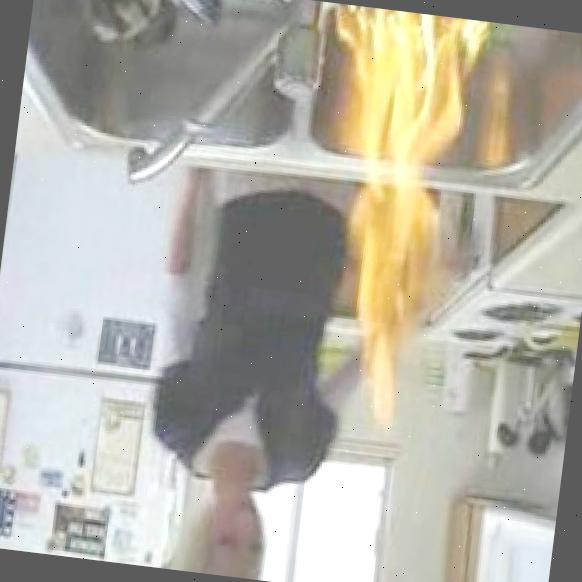fire: (306, 6, 481, 425)
